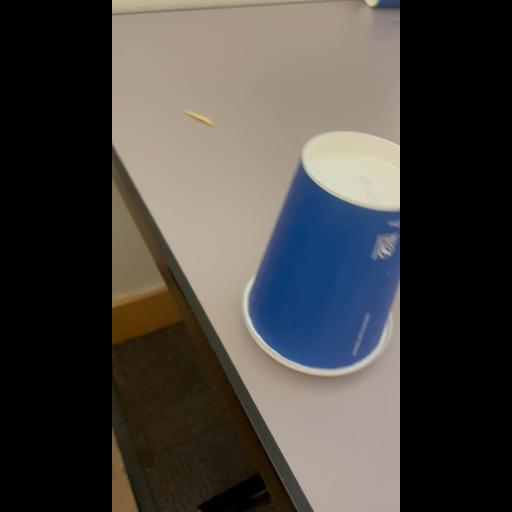lp_paper_cup: (240, 128, 400, 380)
